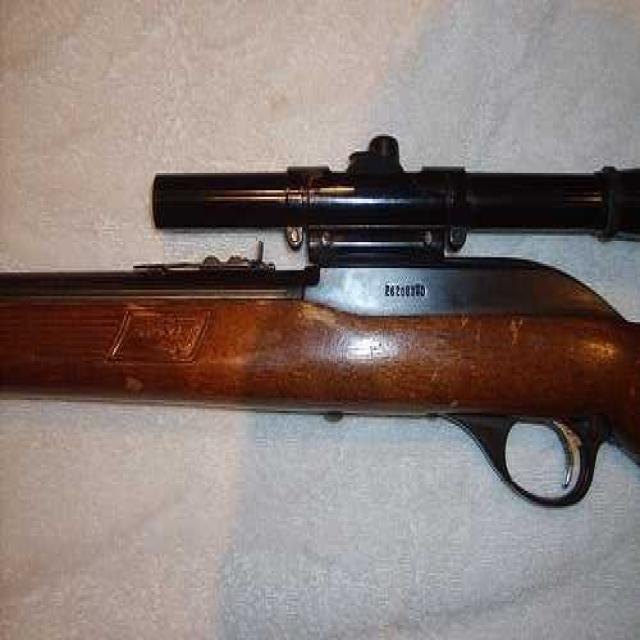weapon: (0, 130, 640, 571)
